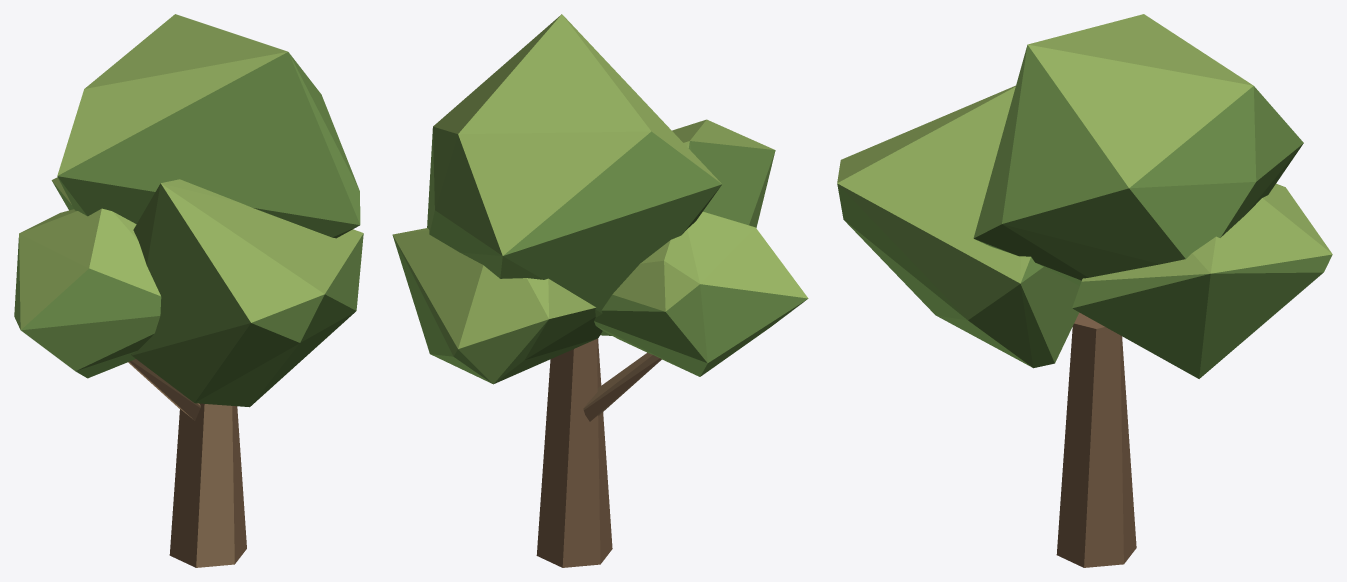
The model's file is Oak_0.glb.
3 renders of one model, left to right at view 1: azimuth 30°, elevation 25°; view 2: azimuth 150°, elevation 25°; view 3: azimuth 270°, elevation 25°, orthographic. The views are drawn at different scales.
Visible parts, largest first — view 1: Oak_0; view 2: Oak_0; view 3: Oak_0.
Part boxes in pixels (x1,y1,x2,y2): Oak_0: [14, 14, 363, 567]; Oak_0: [392, 14, 808, 567]; Oak_0: [837, 14, 1332, 567].
Size of the model in its own units: 0.6029 by 0.86 by 0.7283.
